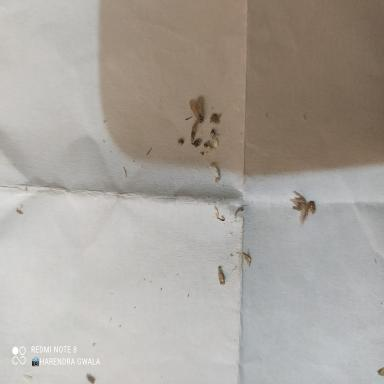pbw: (189, 97, 204, 123)
